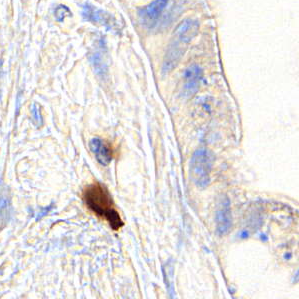Lymphocyte: (81, 183, 125, 231)
